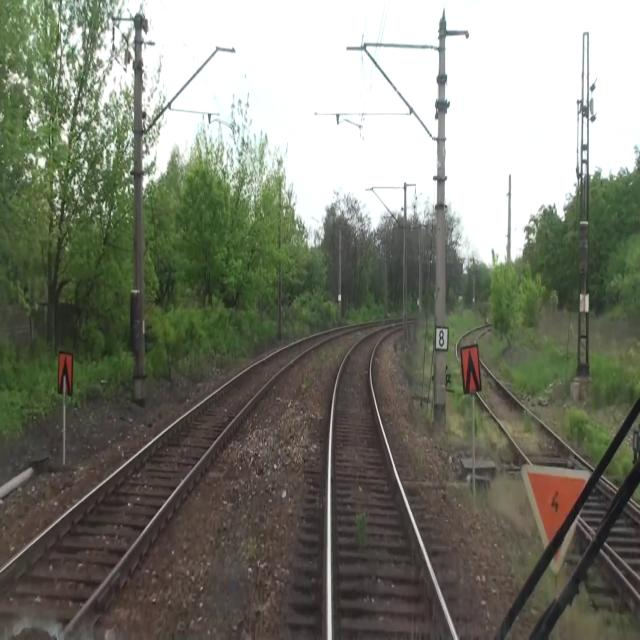rail-track: (0, 332, 335, 639), (332, 330, 442, 639), (482, 366, 569, 462), (458, 329, 484, 357)
